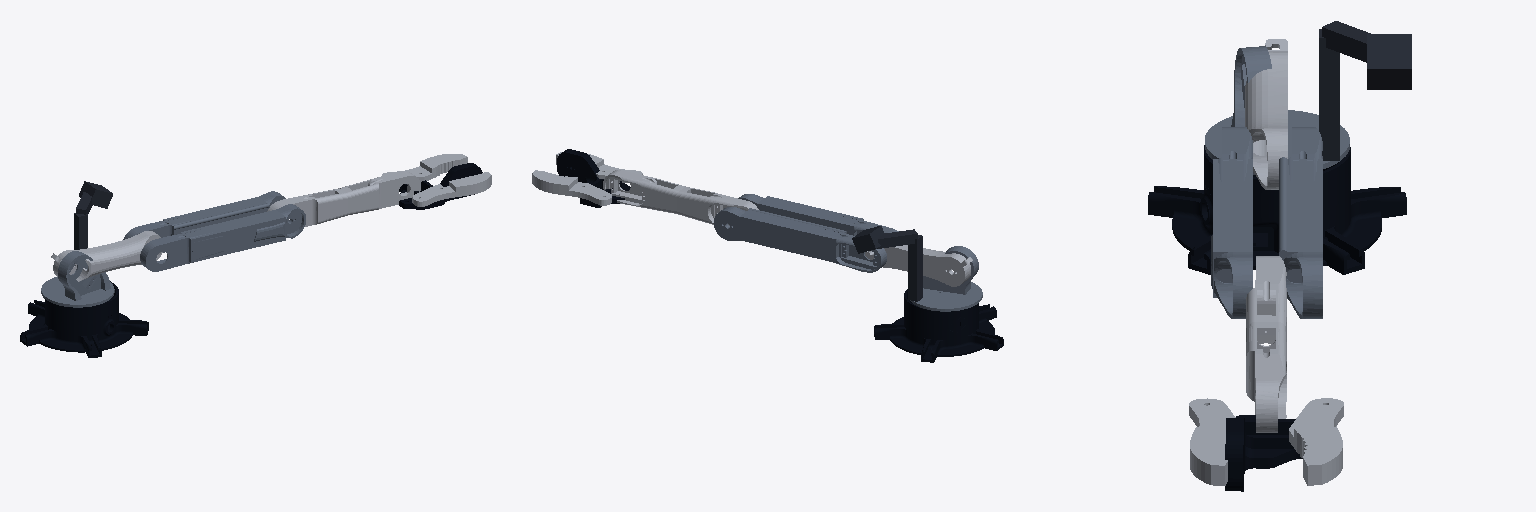
robot.urdf — printable_cad_arm:
<?xml version="1.0" ?>
<!-- =================================================================================== -->
<!-- |    This document was autogenerated by xacro from src/printable_6dof_arm/urdf/printable_6dof_arm.urdf.xacro | -->
<!-- |    EDITING THIS FILE BY HAND IS NOT RECOMMENDED                                 | -->
<!-- =================================================================================== -->
<robot name="printable_cad_arm">
  <!-- Neutral robot colours cannot enter the red / green / blue HSV masks. -->
  <material name="cad_blue">
    <color rgba="0.42 0.46 0.52 1"/>
  </material>
  <material name="cad_dark">
    <color rgba="0.07 0.09 0.13 1"/>
  </material>
  <material name="cad_orange">
    <color rgba="0.68 0.70 0.74 1"/>
  </material>
  <material name="camera_blue">
    <color rgba="0.18 0.20 0.24 1"/>
  </material>
  <!-- A virtual world joint represents the four mounting bolts used by the
       real arm and prevents the simulator from treating it as a free body. -->
  <link name="world"/>
  <joint name="world_mount_joint" type="fixed">
    <parent link="world"/>
    <child link="base_footprint"/>
  </joint>
  <link name="base_footprint"/>
  <joint name="base_footprint_joint" type="fixed">
    <parent link="base_footprint"/>
    <child link="base_link"/>
  </joint>
  <link name="base_link">
    <visual>
      <!-- Base.stl is the radial floor plate and cylindrical motor housing. -->
      <geometry>
        <mesh filename="package://printable_6dof_arm/meshes/cad/base.stl" scale="0.001 0.001 0.001"/>
      </geometry>
      <material name="cad_dark"/>
    </visual>
    <collision>
      <origin xyz="0 0 0.0284"/>
      <geometry>
        <cylinder length="0.0568" radius="0.0865"/>
      </geometry>
    </collision>
    <inertial>
      <origin xyz="0 0 0.026"/>
      <mass value="0.85"/>
      <inertia ixx="0.0019" ixy="0" ixz="0" iyy="0.0019" iyz="0" izz="0.0032"/>
    </inertial>
  </link>
  <!-- The physical arm is bolted through this pedestal.  Keep only the
       mounting link kinematic so the articulated links still use physics. -->
  <gazebo reference="base_link">
    <kinematic>true</kinematic>
    <gravity>false</gravity>
  </gazebo>
  <!-- The CAD contains a stepper-driven waist, so this axis is continuous. -->
  <joint name="joint1_base_yaw" type="continuous">
    <parent link="base_link"/>
    <child link="base_yaw_link"/>
    <origin xyz="0 0 0.05675"/>
    <axis xyz="0 0 1"/>
    <limit effort="20.0" velocity="0.80"/>
    <dynamics damping="0.15" friction="0.06"/>
  </joint>
  <link name="base_yaw_link">
    <visual>
      <!-- Waist.stl is the rotating top plate and shoulder arch. -->
      <geometry>
        <mesh filename="package://printable_6dof_arm/meshes/cad/waist.stl" scale="0.001 0.001 0.001"/>
      </geometry>
      <material name="cad_blue"/>
    </visual>
    <collision>
      <origin xyz="0 0 0.002"/>
      <geometry>
        <cylinder length="0.004" radius="0.049"/>
      </geometry>
    </collision>
    <collision>
      <origin rpy="0 -0.45 0" xyz="-0.026 -0.007 0.033"/>
      <geometry>
        <box size="0.074 0.012 0.054"/>
      </geometry>
    </collision>
    <inertial>
      <origin xyz="-0.010 -0.004 0.015"/>
      <mass value="0.30"/>
      <inertia ixx="0.00032" ixy="0" ixz="0" iyy="0.00038" iyz="0" izz="0.00028"/>
    </inertial>
  </link>
  <joint name="joint2_shoulder_pitch" type="revolute">
    <parent link="base_yaw_link"/>
    <child link="shoulder_link"/>
    <!-- Measured centre of the 17.9 mm shoulder bore in Waist.stl. -->
    <origin xyz="-0.0129 -0.0072 0.0403"/>
    <axis xyz="0 1 0"/>
    <limit effort="18.0" lower="-2.20" upper="1.20" velocity="0.65"/>
    <dynamics damping="0.20" friction="0.08"/>
  </joint>
  <link name="shoulder_link">
    <visual>
      <geometry>
        <mesh filename="package://printable_6dof_arm/meshes/cad/shoulder_arm.stl" scale="0.001 0.001 0.001"/>
      </geometry>
      <material name="cad_orange"/>
    </visual>
    <collision>
      <origin xyz="0.058 0 0"/>
      <geometry>
        <box size="0.166 0.030 0.044"/>
      </geometry>
    </collision>
    <inertial>
      <origin xyz="0.060 0 0"/>
      <mass value="0.22"/>
      <inertia ixx="0.00006" ixy="0" ixz="0" iyy="0.00055" iyz="0" izz="0.00055"/>
    </inertial>
  </link>
  <joint name="joint3_elbow_pitch" type="revolute">
    <parent link="shoulder_link"/>
    <child link="elbow_link"/>
    <origin xyz="0.12 0 0"/>
    <axis xyz="0 1 0"/>
    <limit effort="15.0" lower="-2.60" upper="2.60" velocity="0.70"/>
    <dynamics damping="0.16" friction="0.06"/>
  </joint>
  <link name="elbow_link">
    <!-- G_Arm and H_arm are the paired CAD side plates. -->
    <visual>
      <origin xyz="0 0.023 0"/>
      <geometry>
        <mesh filename="package://printable_6dof_arm/meshes/cad/elbow_left.stl" scale="0.001 0.001 0.001"/>
      </geometry>
      <material name="cad_blue"/>
    </visual>
    <visual>
      <origin xyz="0 -0.023 0"/>
      <geometry>
        <mesh filename="package://printable_6dof_arm/meshes/cad/elbow_right.stl" scale="0.001 0.001 0.001"/>
      </geometry>
      <material name="cad_blue"/>
    </visual>
    <collision>
      <origin xyz="0.100 0 0"/>
      <geometry>
        <box size="0.250 0.075 0.044"/>
      </geometry>
    </collision>
    <inertial>
      <origin xyz="0.102 0 0"/>
      <mass value="0.32"/>
      <inertia ixx="0.00020" ixy="0" ixz="0" iyy="0.00120" iyz="0" izz="0.00120"/>
    </inertial>
  </link>
  <joint name="joint4_wrist_pitch" type="revolute">
    <parent link="elbow_link"/>
    <child link="wrist_link"/>
    <origin xyz="0.204 0 0"/>
    <axis xyz="0 1 0"/>
    <limit effort="8.0" lower="-2.60" upper="2.60" velocity="0.90"/>
    <dynamics damping="0.12" friction="0.04"/>
  </joint>
  <link name="wrist_link">
    <visual>
      <geometry>
        <mesh filename="package://printable_6dof_arm/meshes/cad/wrist_arm.stl" scale="0.001 0.001 0.001"/>
      </geometry>
      <material name="cad_orange"/>
    </visual>
    <collision>
      <origin xyz="0.090 0 0"/>
      <geometry>
        <box size="0.229 0.030 0.040"/>
      </geometry>
    </collision>
    <inertial>
      <origin xyz="0.090 0 0"/>
      <mass value="0.20"/>
      <inertia ixx="0.00006" ixy="0" ixz="0" iyy="0.00075" iyz="0" izz="0.00075"/>
    </inertial>
  </link>
  <joint name="gripper_palm_joint" type="fixed">
    <parent link="wrist_link"/>
    <child link="gripper_palm_link"/>
    <origin xyz="0.179 0 0"/>
  </joint>
  <link name="gripper_palm_link">
    <visual>
      <geometry>
        <mesh filename="package://printable_6dof_arm/meshes/cad/gripper_palm.stl" scale="0.001 0.001 0.001"/>
      </geometry>
      <material name="cad_dark"/>
    </visual>
    <collision>
      <!-- Keep the finger channel open; the CAD palm is not a solid cuboid. -->
      <origin xyz="0.003 0 0"/>
      <geometry>
        <box size="0.022 0.070 0.042"/>
      </geometry>
    </collision>
    <inertial>
      <origin xyz="0.050 0 0"/>
      <mass value="0.12"/>
      <inertia ixx="0.00006" ixy="0" ixz="0" iyy="0.00016" iyz="0" izz="0.00018"/>
    </inertial>
  </link>
  <joint name="left_finger_joint" type="revolute">
    <parent link="gripper_palm_link"/>
    <child link="left_finger_link"/>
    <origin xyz="0.010 0.040 0"/>
    <axis xyz="0 0 1"/>
    <limit effort="5.0" lower="-0.35" upper="0.0" velocity="0.60"/>
    <dynamics damping="0.15" friction="0.08"/>
  </joint>
  <link name="left_finger_link">
    <visual>
      <geometry>
        <mesh filename="package://printable_6dof_arm/meshes/cad/left_finger.stl" scale="0.001 0.001 0.001"/>
      </geometry>
      <material name="cad_orange"/>
    </visual>
    <collision>
      <!-- Collision is limited to the hinge; simulation uses smooth
           pose-follow grasp assistance so the visual finger cannot kick the cube. -->
      <origin xyz="0.010 0 0"/>
      <geometry>
        <box size="0.025 0.010 0.014"/>
      </geometry>
    </collision>
    <inertial>
      <origin xyz="0.050 0 0"/>
      <mass value="0.025"/>
      <inertia ixx="0.000002" ixy="0" ixz="0" iyy="0.000028" iyz="0" izz="0.000028"/>
    </inertial>
  </link>
  <joint name="right_finger_joint" type="revolute">
    <parent link="gripper_palm_link"/>
    <child link="right_finger_link"/>
    <origin xyz="0.010 -0.040 0"/>
    <axis xyz="0 0 1"/>
    <limit effort="5.0" lower="0.0" upper="0.35" velocity="0.60"/>
    <dynamics damping="0.15" friction="0.08"/>
  </joint>
  <link name="right_finger_link">
    <visual>
      <geometry>
        <mesh filename="package://printable_6dof_arm/meshes/cad/right_finger.stl" scale="0.001 0.001 0.001"/>
      </geometry>
      <material name="cad_orange"/>
    </visual>
    <collision>
      <origin xyz="0.010 0 0"/>
      <geometry>
        <box size="0.025 0.010 0.014"/>
      </geometry>
    </collision>
    <inertial>
      <origin xyz="0.050 0 0"/>
      <mass value="0.025"/>
      <inertia ixx="0.000002" ixy="0" ixz="0" iyy="0.000028" iyz="0" izz="0.000028"/>
    </inertial>
  </link>
  <joint name="tool_tip_joint" type="fixed">
    <parent link="gripper_palm_link"/>
    <child link="tool_tip"/>
    <!-- Measured grasp centre between the 107 mm CAD fingers. -->
    <origin xyz="0.090 0 0"/>
  </joint>
  <link name="tool_tip"/>
  <!-- A visible bracket fixes the camera to the rotating top plate. -->
  <joint name="camera_bracket_joint" type="fixed">
    <parent link="base_yaw_link"/>
    <child link="camera_mount_link"/>
    <origin xyz="0.025 0.035 0.004"/>
  </joint>
  <link name="camera_mount_link">
    <visual>
      <origin xyz="0 0 0.045"/>
      <geometry>
        <box size="0.014 0.014 0.090"/>
      </geometry>
      <material name="camera_blue"/>
    </visual>
    <visual>
      <origin rpy="0 0 0.852" xyz="0.0175 0.020 0.090"/>
      <geometry>
        <box size="0.055 0.014 0.014"/>
      </geometry>
      <material name="camera_blue"/>
    </visual>
    <collision>
      <origin xyz="0 0 0.045"/>
      <geometry>
        <box size="0.014 0.014 0.090"/>
      </geometry>
    </collision>
    <collision>
      <origin rpy="0 0 0.852" xyz="0.0175 0.020 0.090"/>
      <geometry>
        <box size="0.055 0.014 0.014"/>
      </geometry>
    </collision>
    <inertial>
      <origin xyz="0.008 0.010 0.050"/>
      <mass value="0.035"/>
      <inertia ixx="0.000025" ixy="0" ixz="0" iyy="0.000025" iyz="0" izz="0.000008"/>
    </inertial>
  </link>
  <joint name="camera_mount_joint" type="fixed">
    <parent link="camera_mount_link"/>
    <child link="camera_link"/>
    <origin rpy="0 0.45 0" xyz="0.035 0.040 0.096"/>
  </joint>
  <link name="camera_link">
    <visual>
      <origin xyz="0.012 0 0"/>
      <geometry>
        <box size="0.030 0.030 0.022"/>
      </geometry>
      <material name="camera_blue"/>
    </visual>
    <collision>
      <origin xyz="0.012 0 0"/>
      <geometry>
        <box size="0.030 0.030 0.022"/>
      </geometry>
    </collision>
    <inertial>
      <origin xyz="0.012 0 0"/>
      <mass value="0.025"/>
      <inertia ixx="0.000004" ixy="0" ixz="0" iyy="0.000004" iyz="0" izz="0.000004"/>
    </inertial>
  </link>
  <joint name="camera_optical_joint" type="fixed">
    <parent link="camera_link"/>
    <child link="camera_optical_frame"/>
    <origin rpy="-1.5708 0 -1.5708"/>
  </joint>
  <link name="camera_optical_frame"/>
  <ros2_control name="GazeboSystem" type="system">
    <hardware>
      <plugin>gz_ros2_control/GazeboSimSystem</plugin>
    </hardware>
    <joint name="joint1_base_yaw">
      <command_interface name="position"/>
      <state_interface name="position">
        <param name="initial_value">0.0</param>
      </state_interface>
      <state_interface name="velocity"/>
    </joint>
    <joint name="joint2_shoulder_pitch">
      <command_interface name="position"/>
      <state_interface name="position">
        <param name="initial_value">-1.0</param>
      </state_interface>
      <state_interface name="velocity"/>
    </joint>
    <joint name="joint3_elbow_pitch">
      <command_interface name="position"/>
      <state_interface name="position">
        <param name="initial_value">0.7</param>
      </state_interface>
      <state_interface name="velocity"/>
    </joint>
    <joint name="joint4_wrist_pitch">
      <command_interface name="position"/>
      <state_interface name="position">
        <param name="initial_value">1.5</param>
      </state_interface>
      <state_interface name="velocity"/>
    </joint>
    <joint name="left_finger_joint">
      <command_interface name="position"/>
      <state_interface name="position">
        <param name="initial_value">0.0</param>
      </state_interface>
      <state_interface name="velocity"/>
    </joint>
    <joint name="right_finger_joint">
      <command_interface name="position"/>
      <state_interface name="position">
        <param name="initial_value">0.0</param>
      </state_interface>
      <state_interface name="velocity"/>
    </joint>
  </ros2_control>
  <gazebo reference="left_finger_link">
    <mu1>5.0</mu1>
    <mu2>5.0</mu2>
    <kp>100000</kp>
    <kd>10</kd>
  </gazebo>
  <gazebo reference="right_finger_link">
    <mu1>5.0</mu1>
    <mu2>5.0</mu2>
    <kp>100000</kp>
    <kd>10</kd>
  </gazebo>
  <gazebo reference="camera_link">
    <sensor name="base_camera" type="camera">
      <always_on>true</always_on>
      <update_rate>20</update_rate>
      <topic>/arm_camera/image_raw</topic>
      <gz_frame_id>camera_optical_frame</gz_frame_id>
      <camera>
        <camera_info_topic>/arm_camera/camera_info</camera_info_topic>
        <horizontal_fov>1.5708</horizontal_fov>
        <image>
          <width>640</width>
          <height>480</height>
          <format>R8G8B8</format>
        </image>
        <clip>
          <near>0.025</near>
          <far>3.0</far>
        </clip>
      </camera>
    </sensor>
  </gazebo>
  <gazebo>
    <plugin filename="libgz_ros2_control-system.so" name="gz_ros2_control::GazeboSimROS2ControlPlugin">
      <parameters>/home/rafael/SELF_LEARNING/ROS/PROJECTS/PNP_ARM/ros2_ws/install/printable_6dof_arm/share/printable_6dof_arm/config/arm_controllers.yaml</parameters>
      <!-- Default 0.1 is too soft for the mass of the imported CAD links. -->
      <position_proportional_gain>0.50</position_proportional_gain>
    </plugin>
  </gazebo>
</robot>

--- Facts derived from the render (not from the file) ---
Views: 3 orthographic renders of the robot side by side, from view 1: azimuth 30°, elevation 25°; view 2: azimuth 150°, elevation 25°; view 3: azimuth 270°, elevation 25°.
Robot: printable_cad_arm — 14 links, 13 joints (5 revolute, 1 continuous, 7 fixed); root link world; default pose: all joints at 0.
Visible links, largest first — view 1: elbow_link, base_link, wrist_link, base_yaw_link, shoulder_link, right_finger_link, gripper_palm_link, left_finger_link, camera_mount_link, camera_link; view 2: elbow_link, base_link, wrist_link, base_yaw_link, shoulder_link, camera_mount_link, left_finger_link, gripper_palm_link, camera_link; view 3: elbow_link, base_link, wrist_link, shoulder_link, left_finger_link, camera_mount_link, gripper_palm_link, base_yaw_link, right_finger_link, camera_link.
Link boxes in pixels (x1,y1,x2,y2): elbow_link: [123, 191, 305, 271]; base_link: [20, 281, 148, 357]; wrist_link: [267, 171, 420, 226]; base_yaw_link: [41, 251, 114, 307]; shoulder_link: [51, 231, 162, 281]; right_finger_link: [412, 172, 491, 206]; gripper_palm_link: [399, 163, 482, 209]; left_finger_link: [382, 154, 467, 181]; camera_mount_link: [74, 192, 92, 249]; camera_link: [79, 181, 112, 208]; elbow_link: [714, 194, 898, 272]; base_link: [874, 289, 1003, 362]; wrist_link: [603, 170, 758, 225]; base_yaw_link: [910, 246, 982, 311]; shoulder_link: [865, 245, 972, 286]; camera_mount_link: [877, 229, 922, 301]; left_finger_link: [532, 170, 611, 205]; gripper_palm_link: [557, 149, 630, 207]; camera_link: [852, 226, 884, 253]; elbow_link: [1211, 127, 1322, 318]; base_link: [1148, 145, 1406, 274]; wrist_link: [1246, 256, 1286, 432]; shoulder_link: [1245, 39, 1287, 189]; left_finger_link: [1289, 398, 1343, 485]; camera_mount_link: [1319, 21, 1370, 160]; gripper_palm_link: [1225, 415, 1302, 491]; base_yaw_link: [1205, 46, 1349, 174]; right_finger_link: [1189, 398, 1235, 485]; camera_link: [1367, 34, 1411, 89].
Bounding box of the posed robot: 0.6894 × 0.1765 × 0.168 m (x, y, z).
9 mesh visuals loaded from 9 distinct referenced files (9 binary STL).
